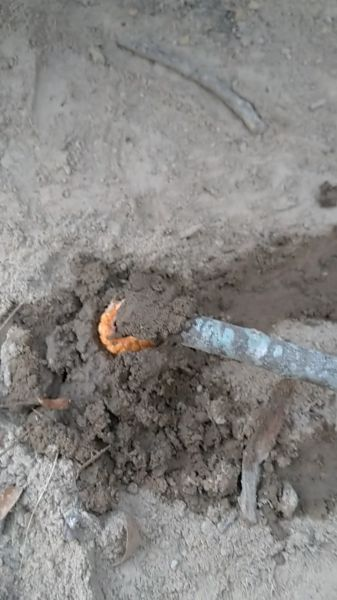eggs: (90, 297, 163, 360)
